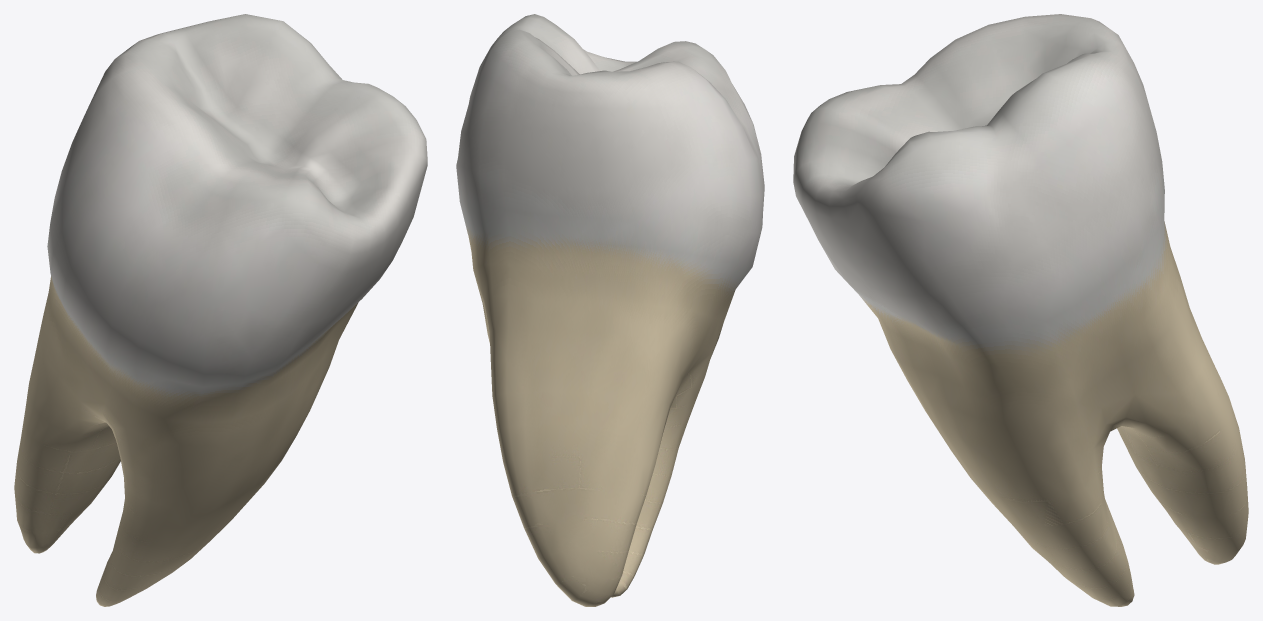
Rendered from tooth-47.glb.
3 views of the same model, side by side, from view 1: azimuth 30°, elevation 25°; view 2: azimuth 150°, elevation 25°; view 3: azimuth 270°, elevation 25° (orthographic). The views are drawn at different scales.
Parts seen in each view (by area): view 1: ZBrushPolyMesh3D1_Mandible_ll7_0; view 2: ZBrushPolyMesh3D1_Mandible_ll7_0; view 3: ZBrushPolyMesh3D1_Mandible_ll7_0.
Part boxes in pixels (x1,y1,x2,y2): ZBrushPolyMesh3D1_Mandible_ll7_0: (14, 14, 427, 606); ZBrushPolyMesh3D1_Mandible_ll7_0: (456, 14, 764, 606); ZBrushPolyMesh3D1_Mandible_ll7_0: (793, 14, 1248, 606).
Bounding box in the file's own units: 0.373 × 0.6441 × 0.4432.
Materials: 1 (1 with a texture image).
